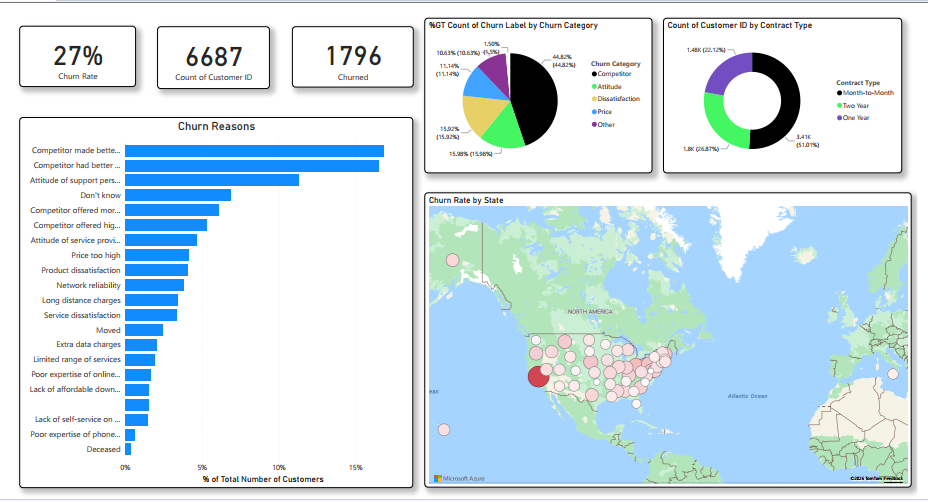

The page's visual inventory and layout, read from the dashboard file:
{"tool":"powerbi","page":{"name":"Overview","canvas":[1812,970],"ordinal":0},"visuals":[{"type":"card","fields":{"Values":["Databel - Data.Churn Rate"]},"box":[13.9,22.2,233.3,122.2],"z":0},{"type":"card","fields":{"Values":["Count(Databel - Data.Customer ID)"]},"box":[290,22.5,225,125],"z":1000},{"type":"card","fields":{"Values":["Sum(Databel - Data.Churned)"]},"box":[560,22.5,242.5,122.5],"z":2000},{"type":"clusteredBarChart","title":"Churn Reasons","fields":{"Category":["Databel - Data.Churn Reason"],"Y":["CountNonNull(Databel - Data.Number of Customers in Group)"]},"box":[14.3,204.8,788.1,742.9],"z":3000},{"type":"donutChart","fields":{"Y":["Count(Databel - Data.Customer ID)"],"Category":["Databel - Data.Contract Type"]},"box":[1302.8,5.6,477.8,311.1],"z":4000},{"type":"pieChart","fields":{"Category":["Databel - Data.Churn Category"],"Y":["CountNonNull(Databel - Data.Churn Label)"]},"box":[825,5.6,455.6,311.1],"z":5000},{"type":"azureMap","fields":{"Category":["Databel - Data.State"],"Size":["Databel - Data.Churn Rate"]},"box":[825,355.6,975,591.7],"z":6000}]}

Visuals, with their boxes in screenshot pixels (x1, y1, x2, y2), scaled from the page's 1812x970 canvas onto the 928x502 screenshot:
card - Databel - Data.Churn Rate: {"x1": 7, "y1": 11, "x2": 127, "y2": 75}
card - Count(Databel - Data.Customer ID): {"x1": 149, "y1": 12, "x2": 264, "y2": 76}
card - Sum(Databel - Data.Churned): {"x1": 287, "y1": 12, "x2": 411, "y2": 75}
"Churn Reasons" clusteredBarChart: {"x1": 7, "y1": 106, "x2": 411, "y2": 490}
donutChart - Count(Databel - Data.Customer ID) x Databel - Data.Contract Type: {"x1": 667, "y1": 3, "x2": 912, "y2": 164}
pieChart - Databel - Data.Churn Category x CountNonNull(Databel - Data.Churn Label): {"x1": 423, "y1": 3, "x2": 656, "y2": 164}
azureMap - Databel - Data.State x Databel - Data.Churn Rate: {"x1": 423, "y1": 184, "x2": 922, "y2": 490}
